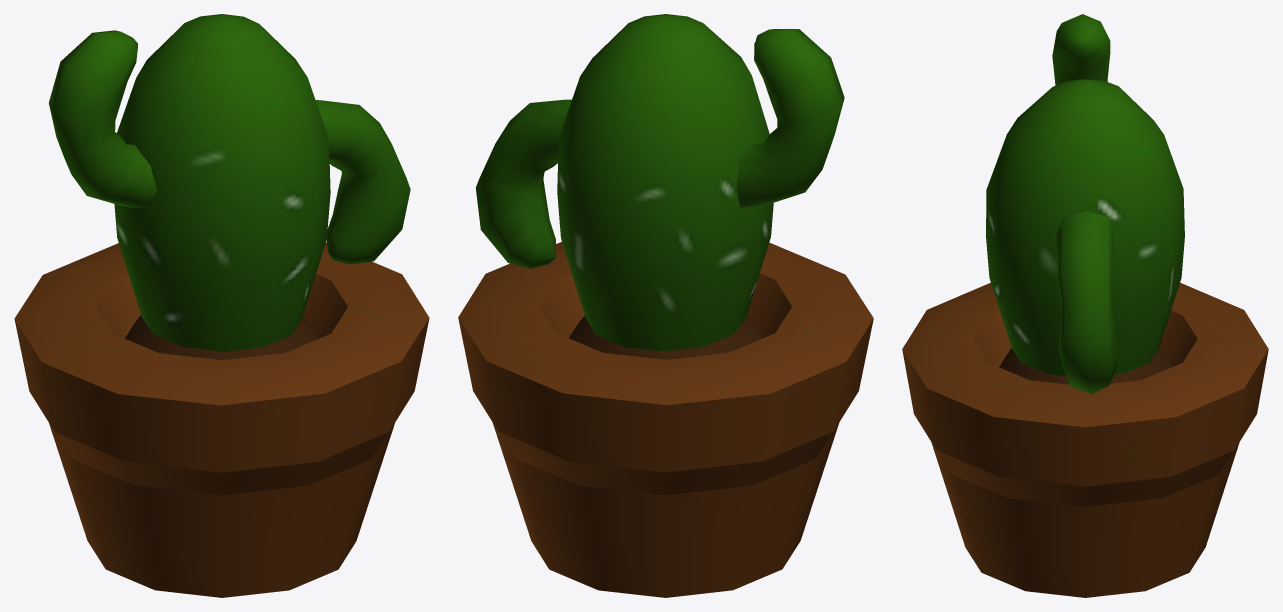
Rendered from Cactus_Carmen.fbx.
3 views of the same model, side by side, from view 1: azimuth 30°, elevation 25°; view 2: azimuth 150°, elevation 25°; view 3: azimuth 270°, elevation 25° (orthographic). The views are drawn at different scales.
Visible parts, largest first — view 1: Cactus; view 2: Cactus; view 3: Cactus.
Boxes of the visible parts, x1,y1,x2,y2 form: Cactus: [14, 14, 429, 597]; Cactus: [458, 14, 873, 597]; Cactus: [902, 14, 1268, 597].
Size of the model in its own units: 244 by 343 by 238.
1 material, 1 textured.
